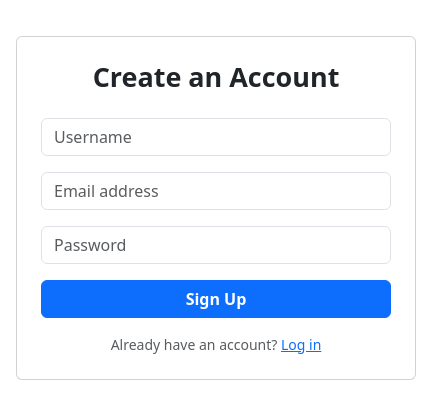
Test: SignUp Component › displays success message on successful signup
The image size is (433, 417).
Type "TestUser" into the field with placeholder "Username" at (216,137), box [41,118,391,156]
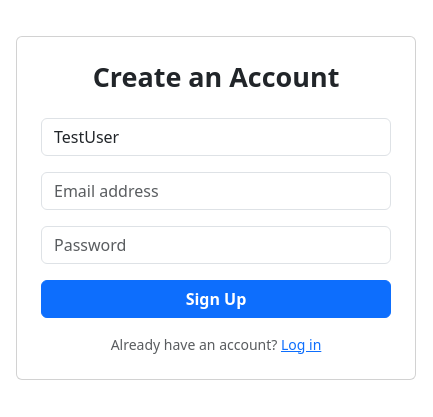
Type "test@example.com" into the field with placeholder "Email address" at (216,191), box [41,172,391,210]
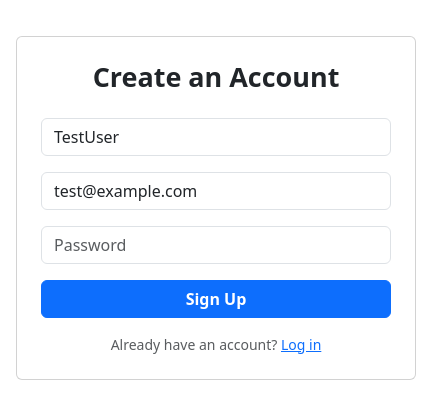
Type "123456" into the password field with placeholder "Password" at (216,245), box [41,226,391,264]
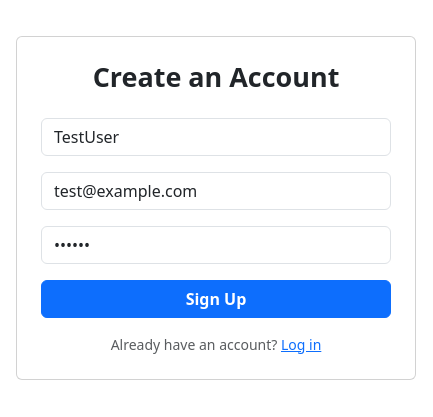
Click the button "Sign Up" at (216,299), box [41,280,391,318]
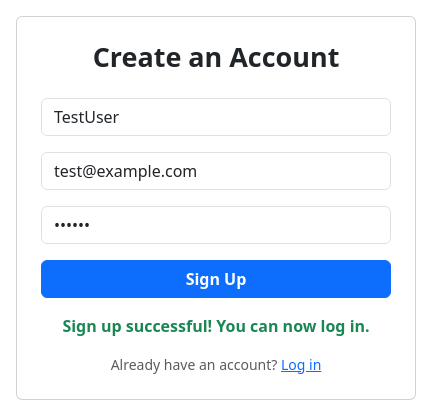
Result: the text "Sign up successful! You can now log in." is shown at [41,314,391,338]
